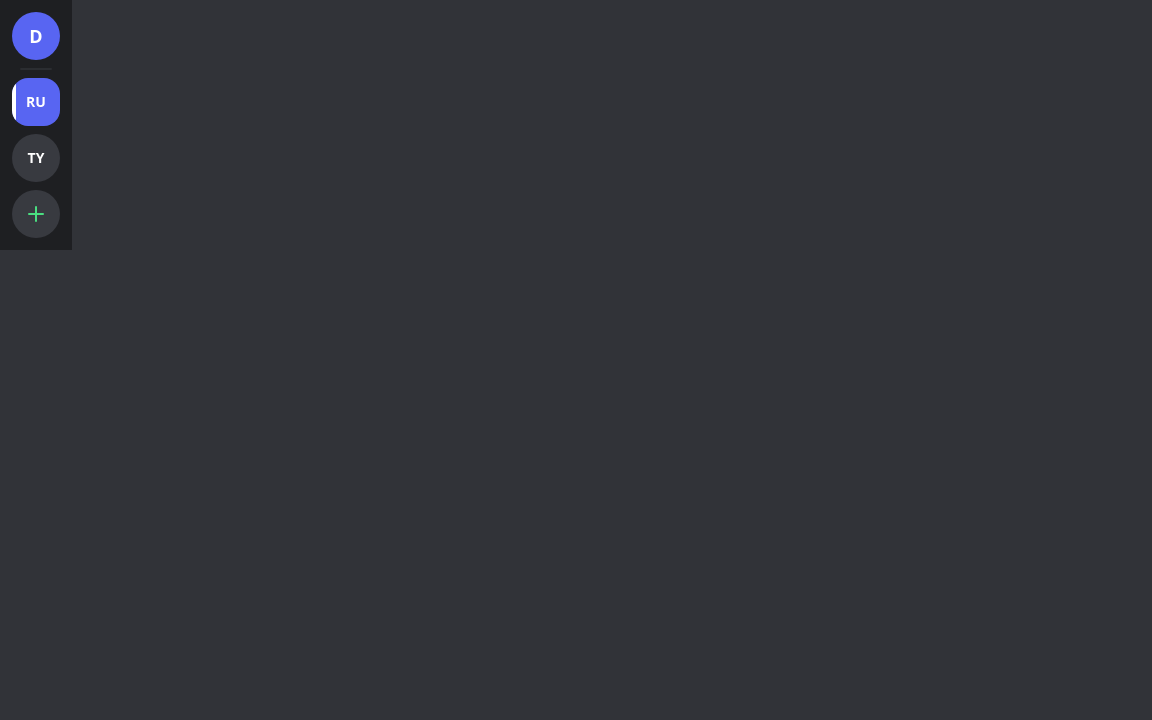
Test: ServerSidebar › switches to join dialog via "Join instead" button
Click the button named "add a server" at point(36, 214), box [12,190,60,238]
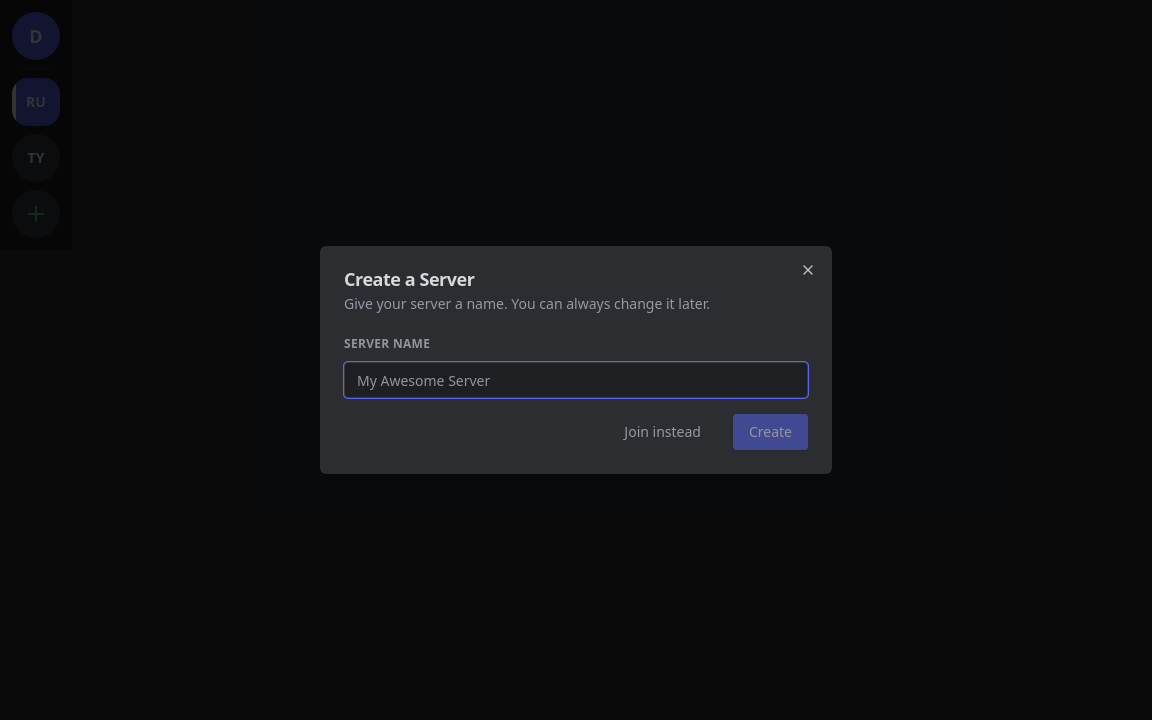
Expected: the dialog is shown, [320,246,832,474]
Click the button "Join instead" at point(663, 432), box [608,414,717,450]
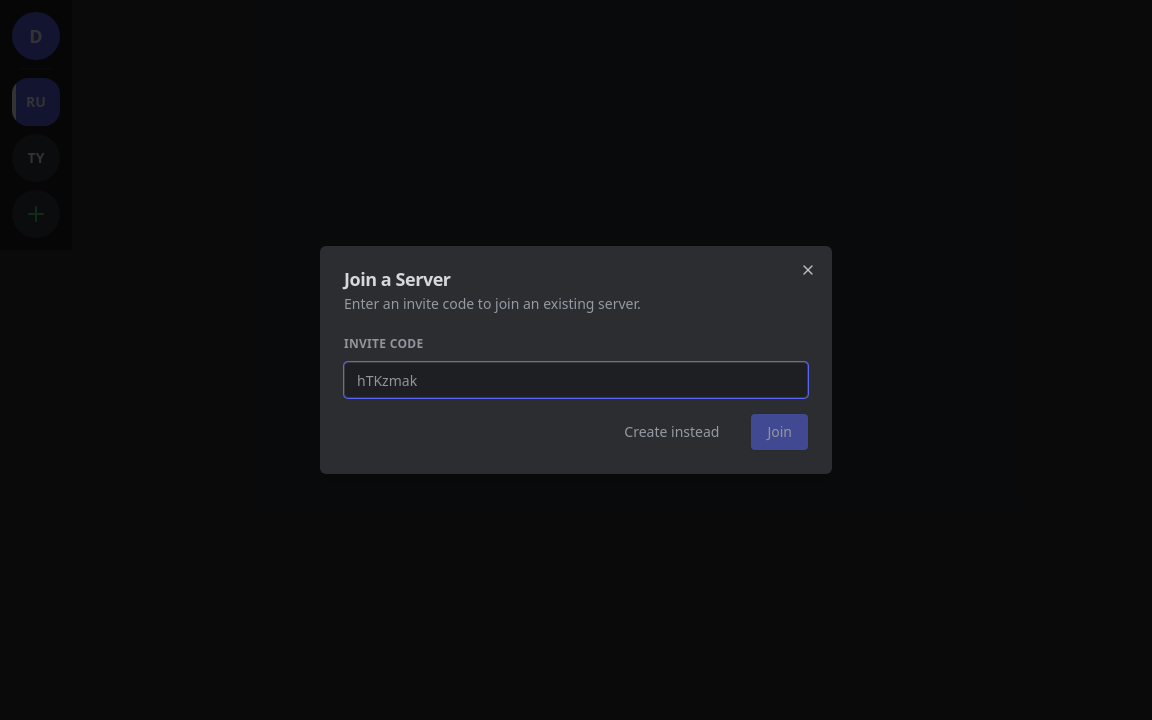
Expected: the field labelled "Invite Code" is shown, [344,362,808,398]
